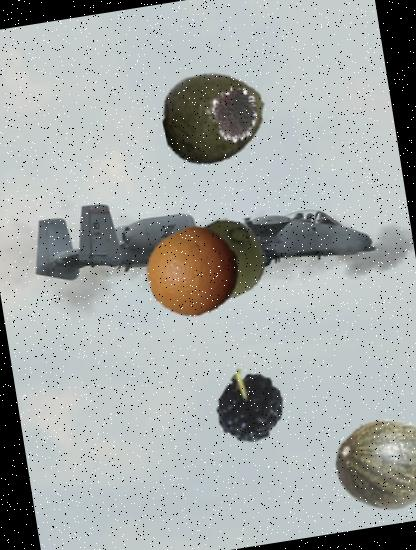Grape: (179, 213, 273, 307)
Guava: (155, 57, 275, 177)
Melon: (331, 406, 416, 522)
Mulberry: (208, 368, 302, 462)
Orange: (141, 220, 246, 325)
Rambutan: (202, 80, 270, 148)
